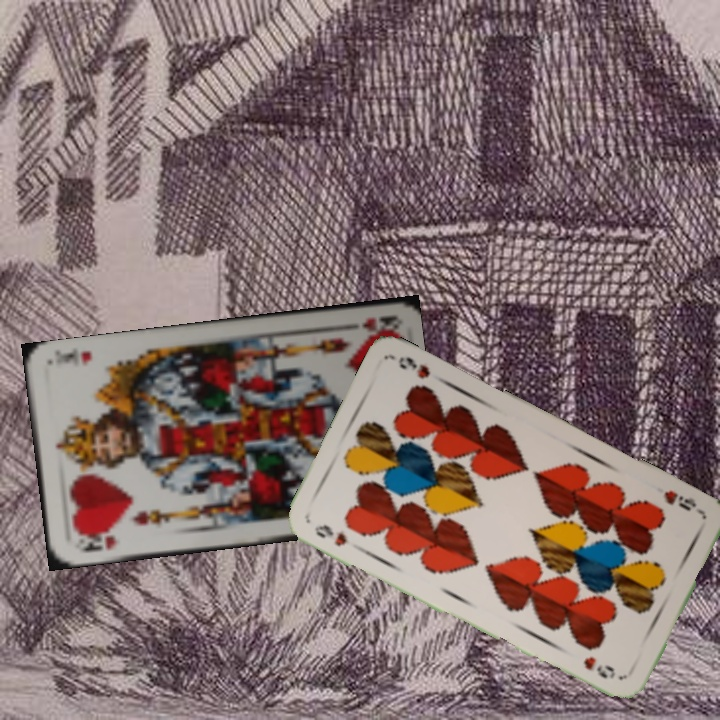H9: (659, 486, 706, 517), (310, 520, 350, 549)
HK: (336, 311, 396, 335), (71, 528, 120, 555)
